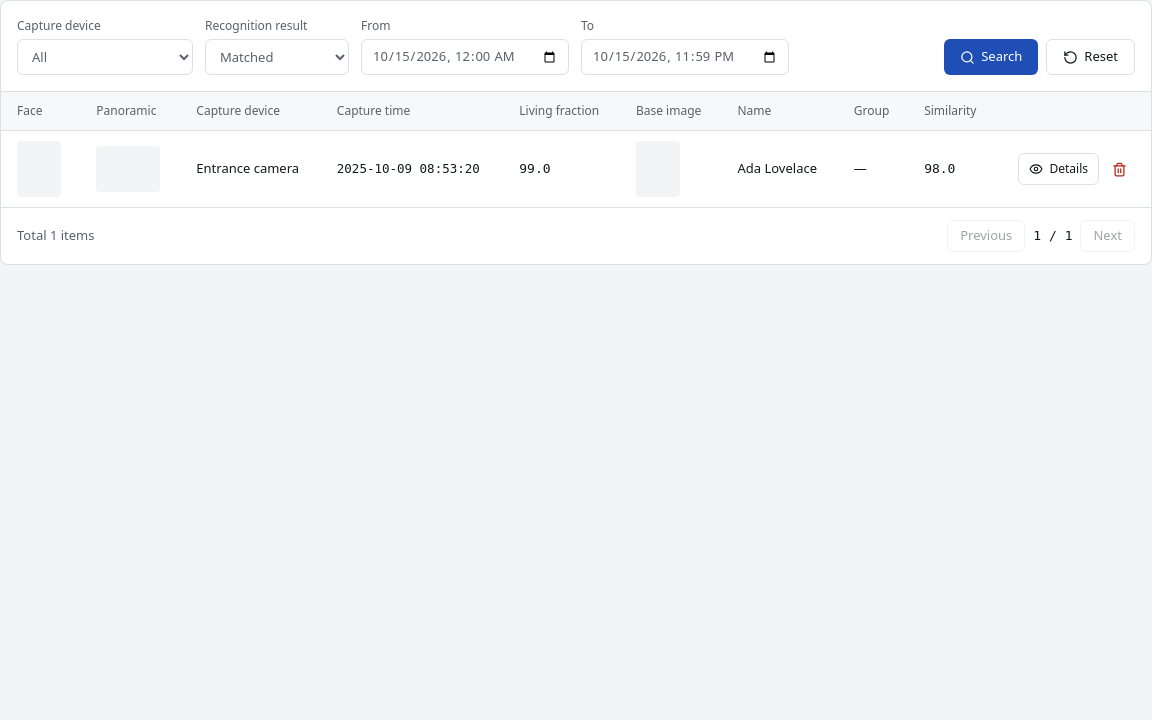
Scenario: RecognitionTable › closes confirmation with Escape and keeps keyboard focus predictable
Expected: the text "Ada Lovelace" is shown, [722,130,838,207]
Click the button named "Delete the recognition of Ada Lovelace". click: (1119,169)
box: [1103,153,1135,185]
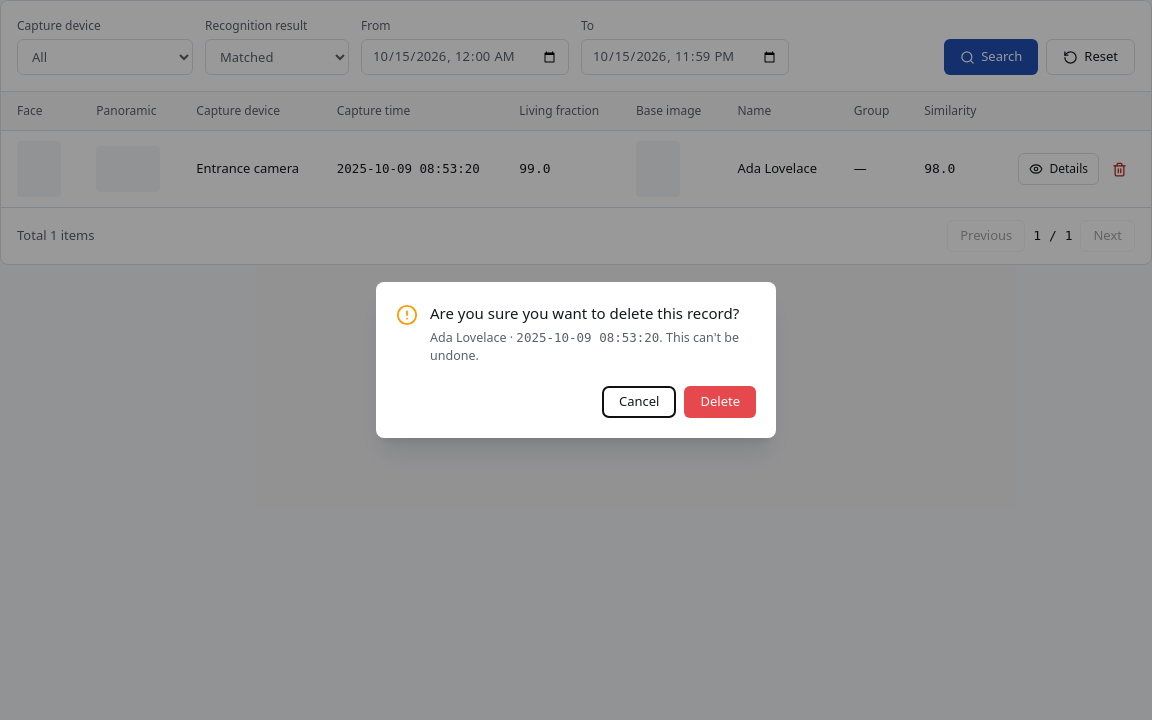
Press Escape
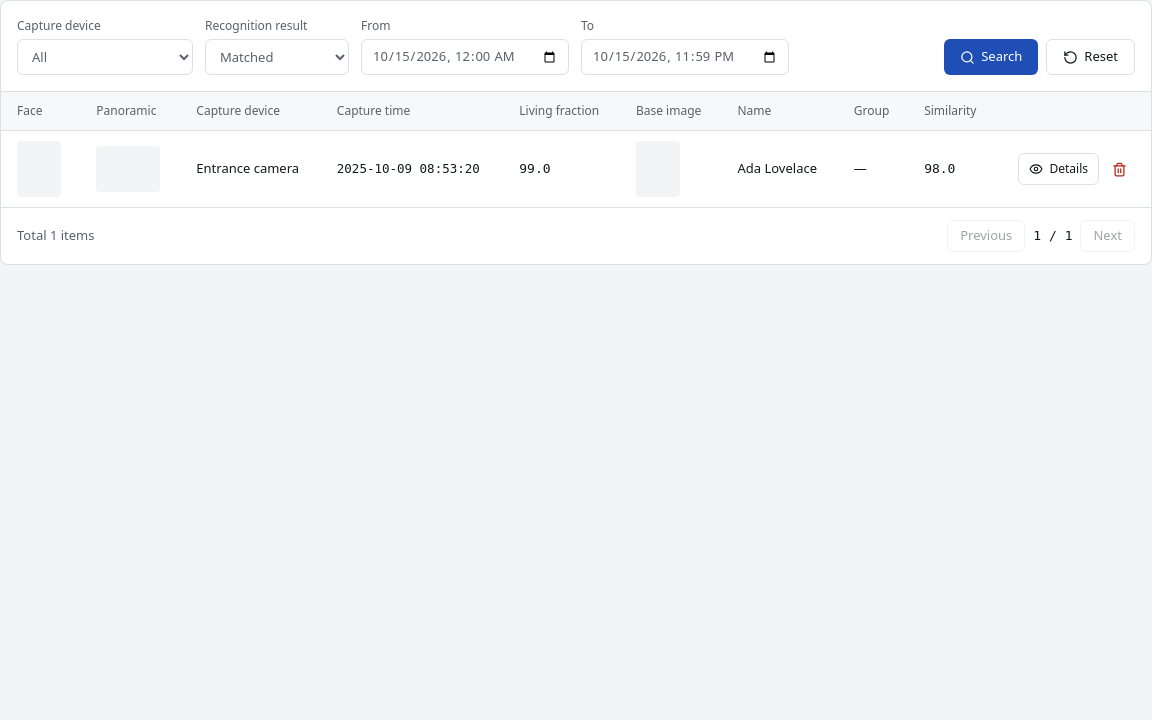
Now the dialog is gone
